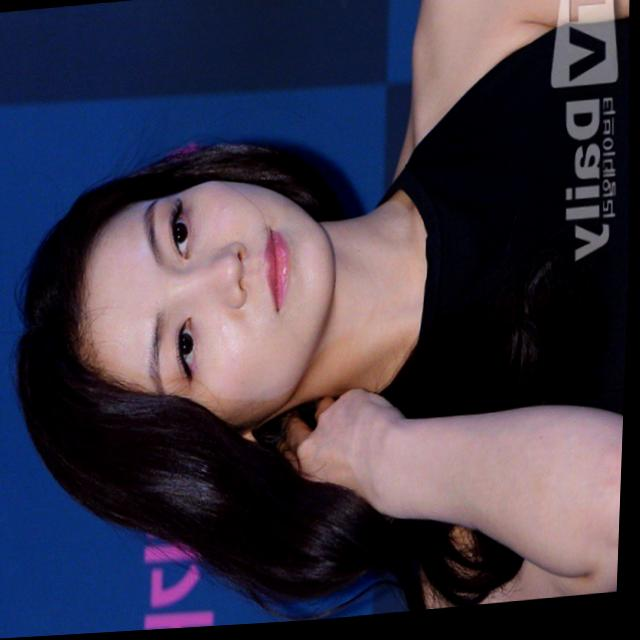face: (65, 169, 340, 449)
